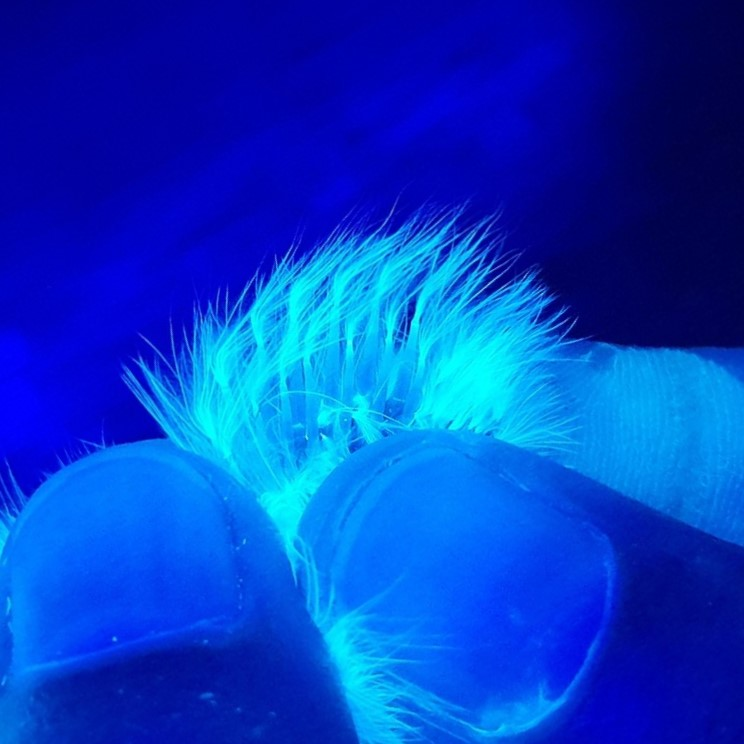female: (227, 263, 445, 496)
